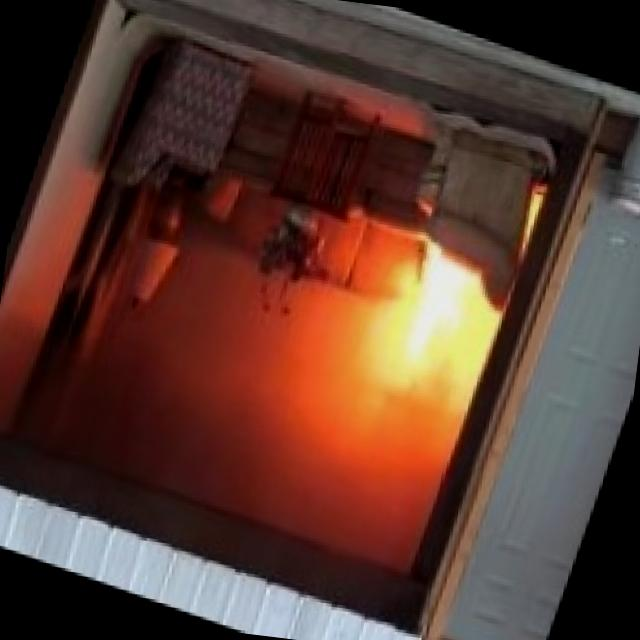fire: (403, 254, 478, 341)
